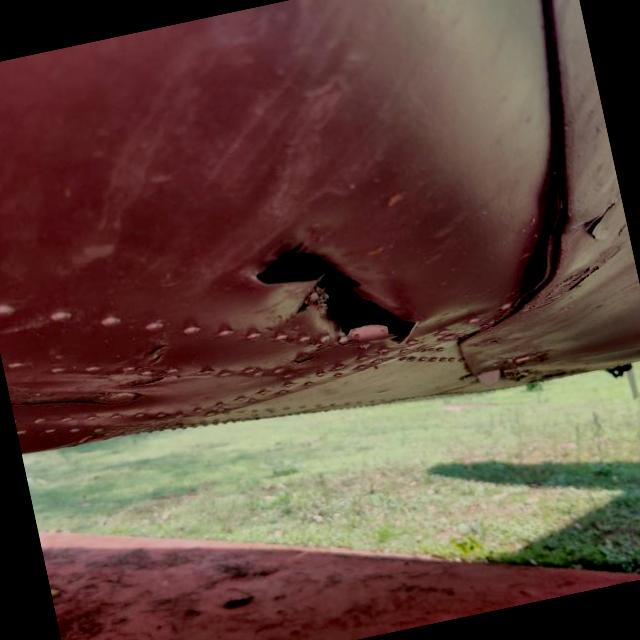crack: (222, 204, 433, 386)
